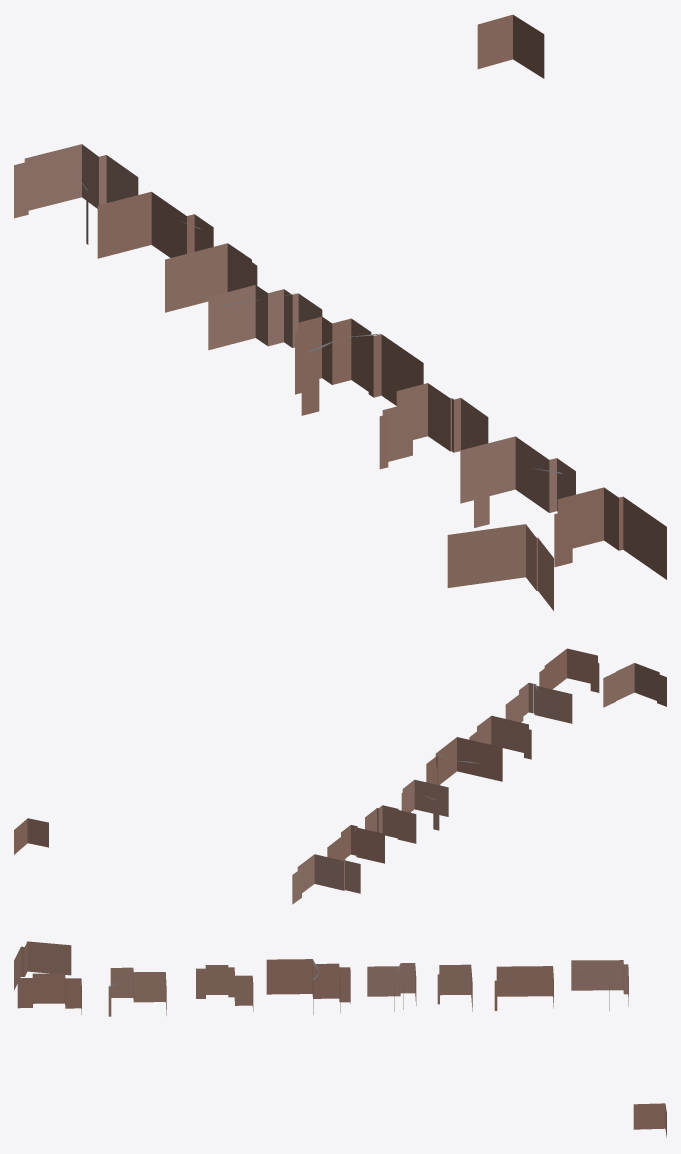
File: c_1645_17821_buildings_residential.glb
The picture shows the model from 3 angles, top to bottom: view 1: azimuth 30°, elevation 25°; view 2: azimuth 150°, elevation 25°; view 3: azimuth 270°, elevation 25°; orthographic projection. The views are drawn at different scales.
Visible parts, largest first — view 1: geometry_0; view 2: geometry_0; view 3: geometry_0.
Part boxes in pixels (bbox=[...]): geometry_0: bbox=[14, 14, 666, 610]; geometry_0: bbox=[14, 648, 666, 904]; geometry_0: bbox=[14, 941, 666, 1137].
Bounding box in the file's own units: 114 × 11.08 × 186.
